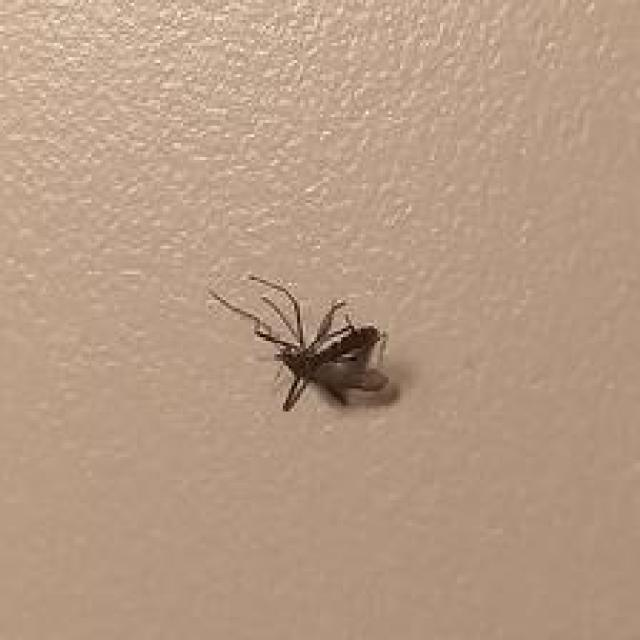Aedes albopictus: (206, 270, 400, 413)
